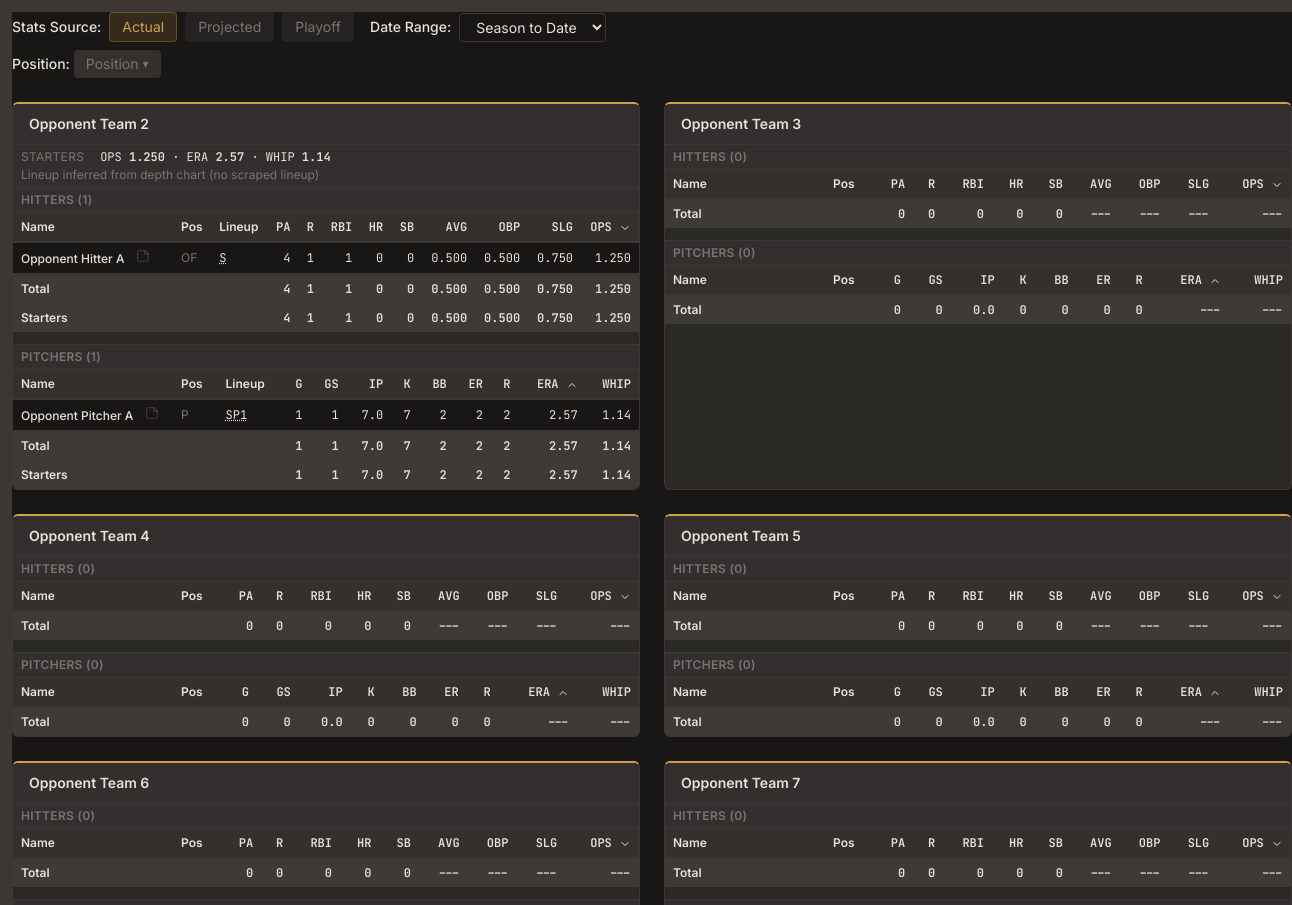
Test case: OpponentsGrid › playoff mode hides the date range, shows the window note, and swaps to playing-time columns
Click the button "Playoff".
click(318, 27)  # box x1=282 y1=12 x2=354 y2=42
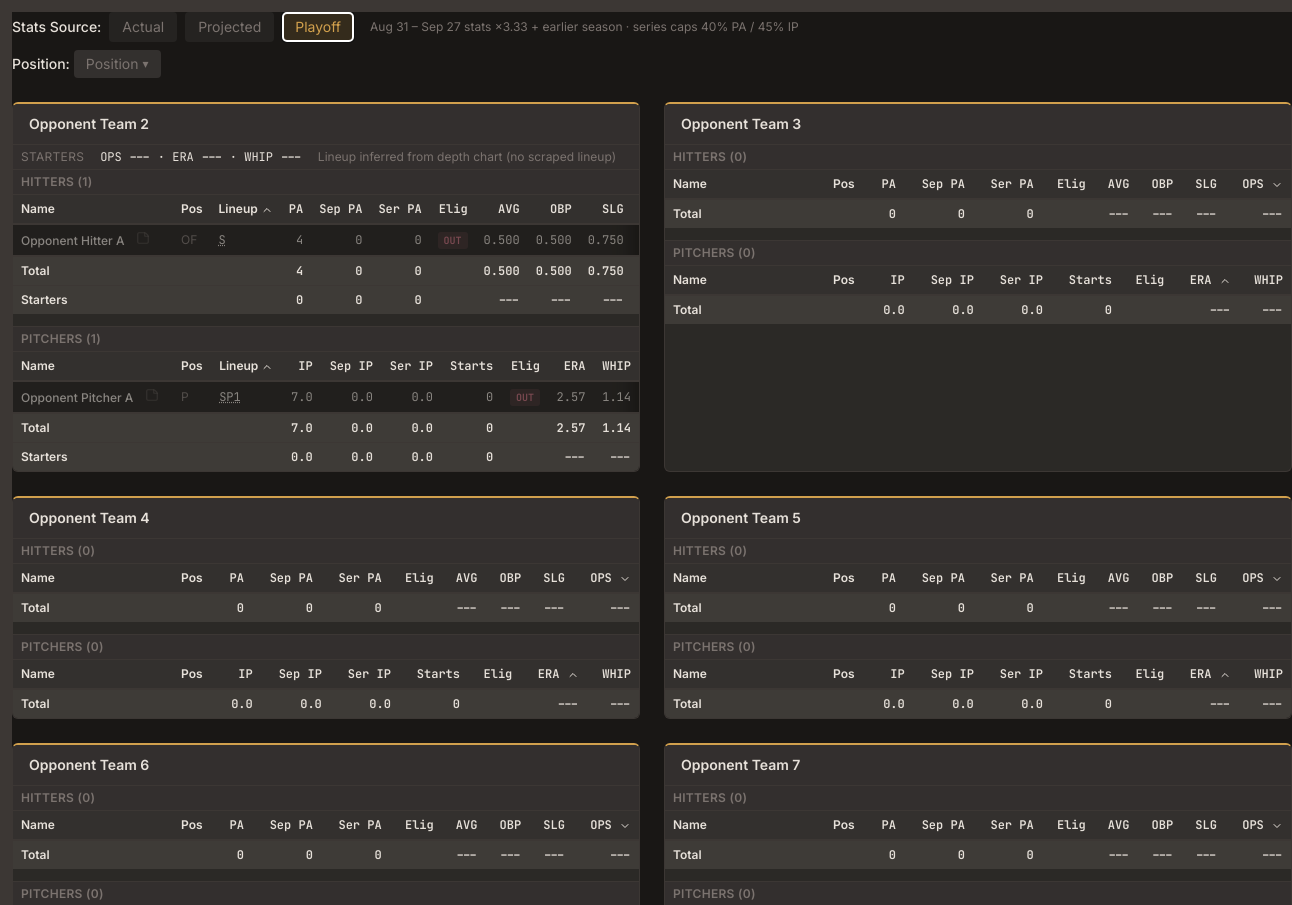
expect the text with test id "playoff-mode-note" is shown: met, box x1=370 y1=19 x2=798 y2=35
expect the number of column headings "Sep PA" is 9: met
expect the number of column headings "Ser PA" is 9: met
